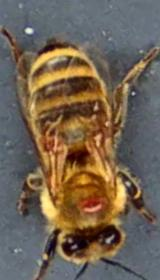varroa_mite: (76, 174, 112, 221), (40, 122, 70, 163)
